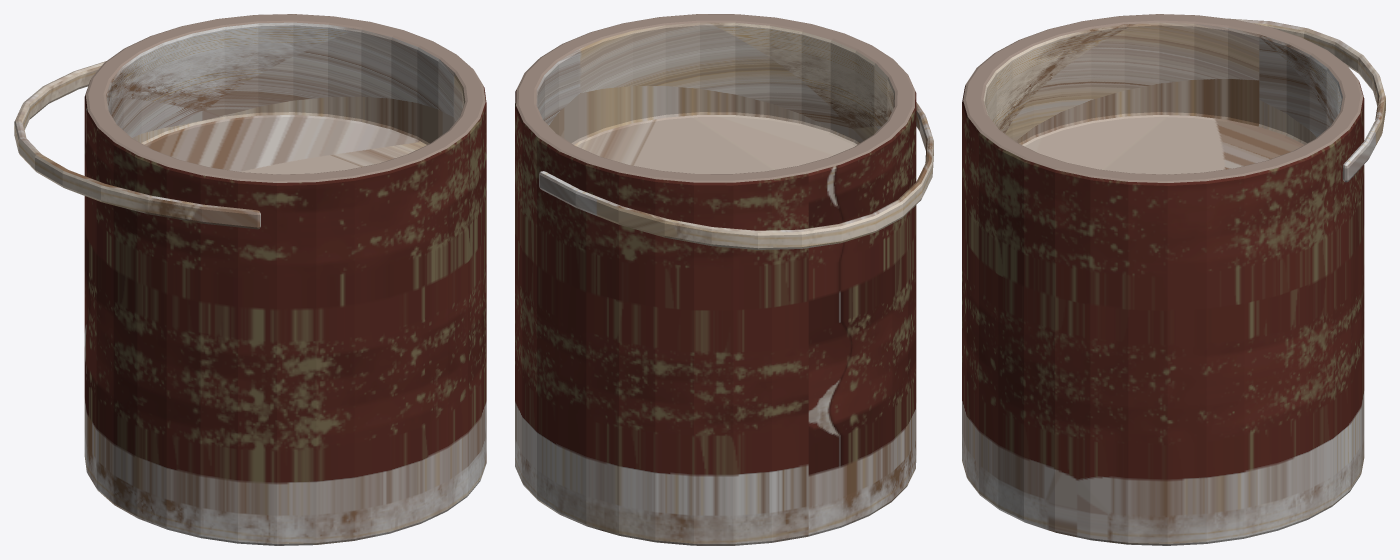
File: pot_1.fbx
3 views of the same model, side by side, from view 1: azimuth 30°, elevation 25°; view 2: azimuth 150°, elevation 25°; view 3: azimuth 270°, elevation 25° (orthographic).
Parts seen in each view (by area): view 1: pot 1; view 2: pot 1; view 3: pot 1.
Boxes of the visible parts, <box> form: pot 1: <box>14,14,486,545</box>; pot 1: <box>515,14,933,545</box>; pot 1: <box>962,14,1385,545</box>.
Bounding box in the file's own units: 61.18 × 54.23 × 57.12.
